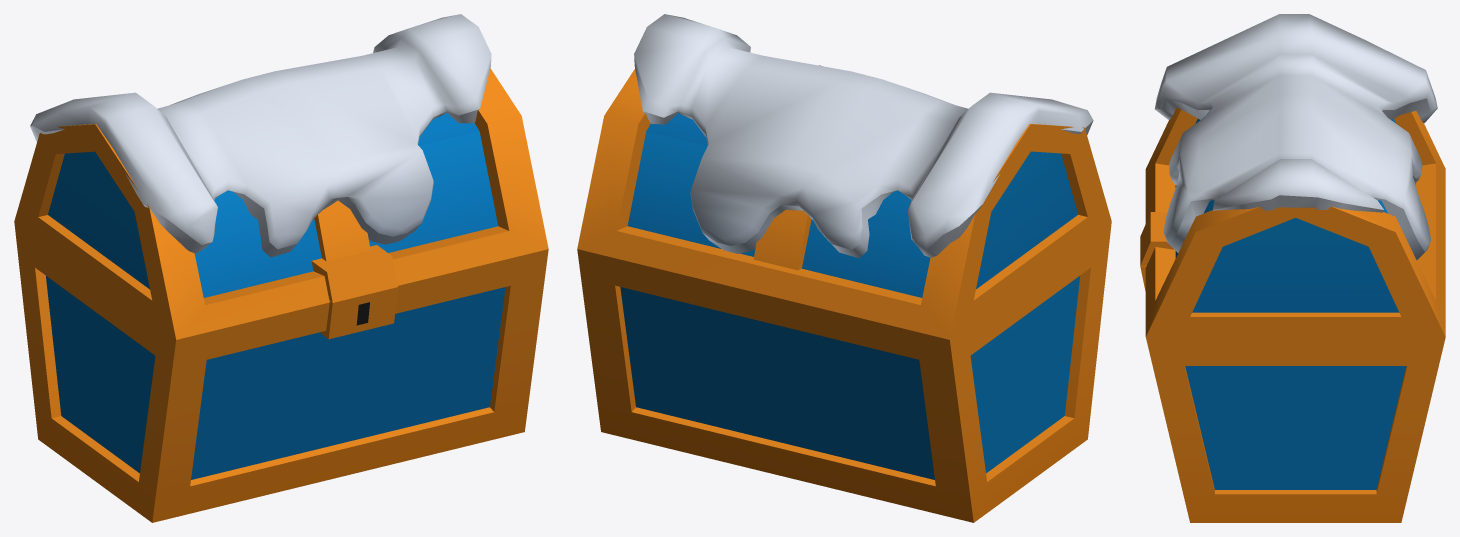
File: Chest_01.fbx
The picture shows the model from 3 angles, left to right: view 1: azimuth 30°, elevation 25°; view 2: azimuth 150°, elevation 25°; view 3: azimuth 270°, elevation 25°; orthographic projection. The views are drawn at different scales.
Visible parts, largest first — view 1: Chest 01 Cover, Chest 01; view 2: Chest 01 Cover, Chest 01; view 3: Chest 01 Cover, Chest 01.
Boxes of the visible parts, bbox=[...] form: Chest 01 Cover: bbox=[14, 14, 548, 339]; Chest 01: bbox=[14, 222, 548, 522]; Chest 01 Cover: bbox=[577, 14, 1111, 339]; Chest 01: bbox=[577, 221, 1111, 522]; Chest 01 Cover: bbox=[1140, 14, 1445, 337]; Chest 01: bbox=[1140, 265, 1445, 522].
Size of the model in its own units: 109 by 101 by 81.41.
